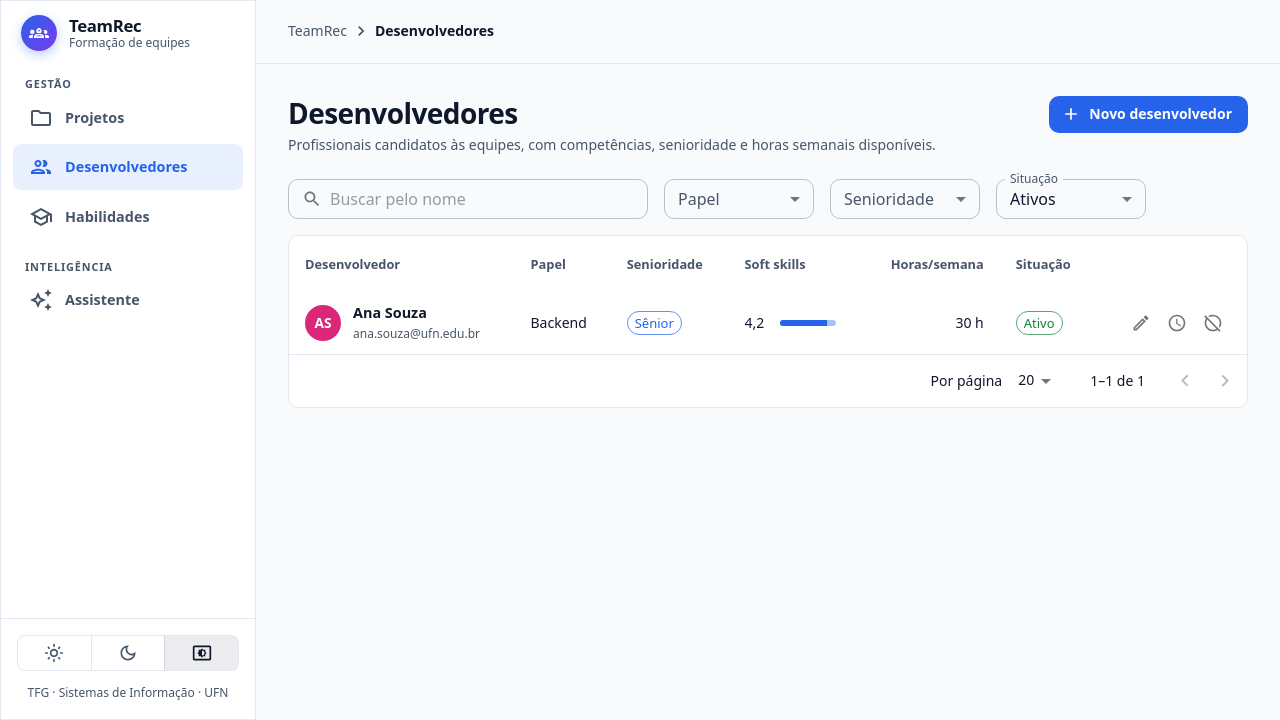
Test: pagina de desenvolvedores › pede confirmacao antes de inativar
The width and height of the screenshot is (1280, 720).
Click the button named "Inativar Ana Souza" at (1213, 323), box x1=1195 y1=305 x2=1231 y2=341
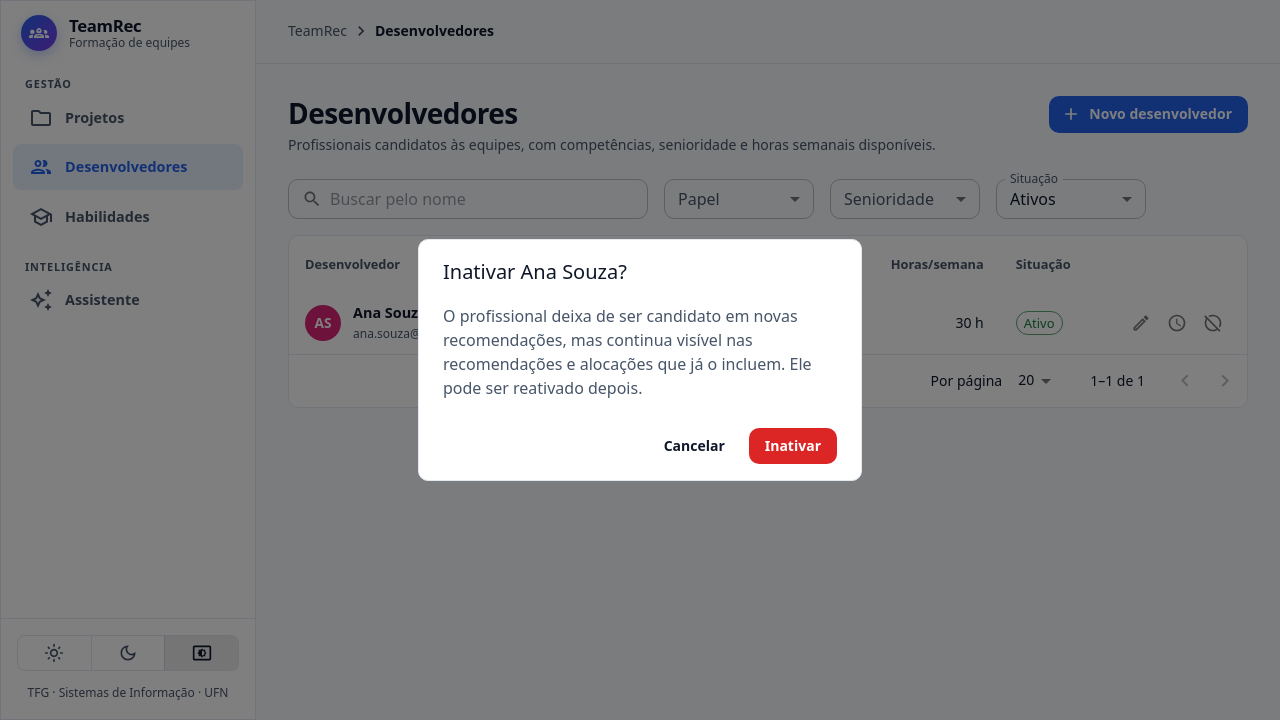
Click the button "Inativar" at (793, 446), box x1=749 y1=428 x2=837 y2=464
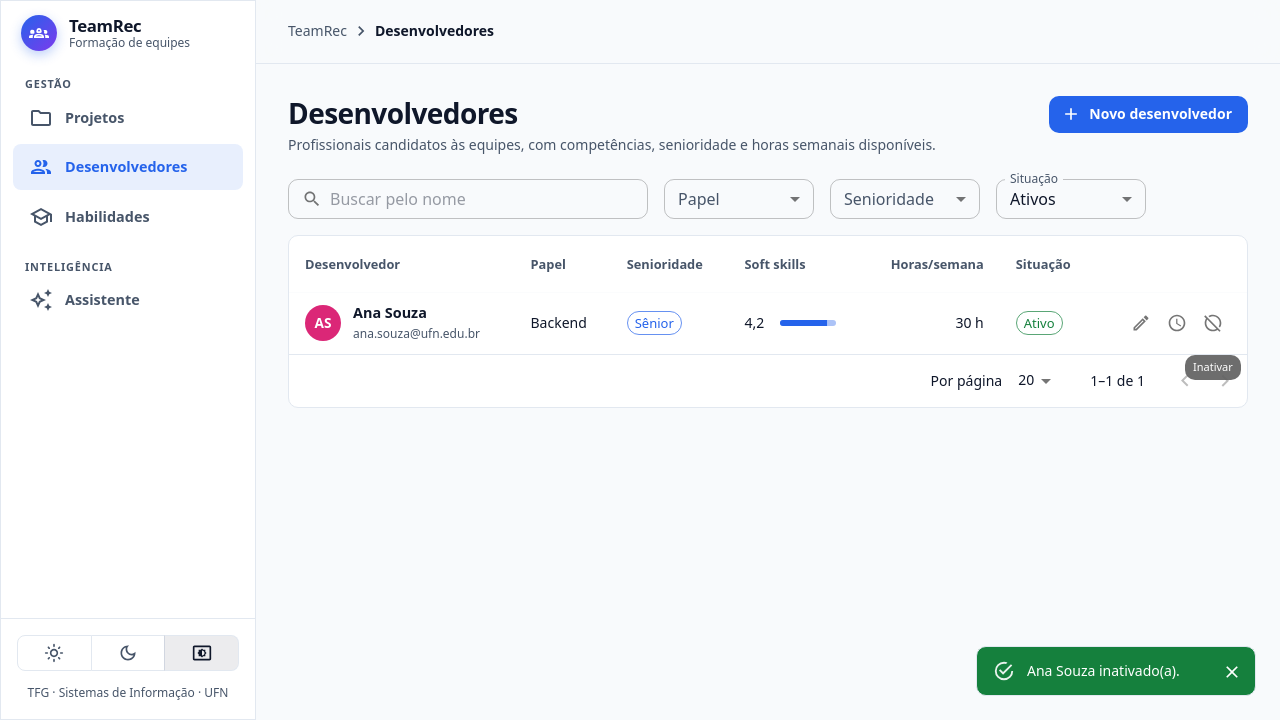
Check: the text "Ana Souza inativado(a)." is shown, box x1=1027 y1=661 x2=1180 y2=680
